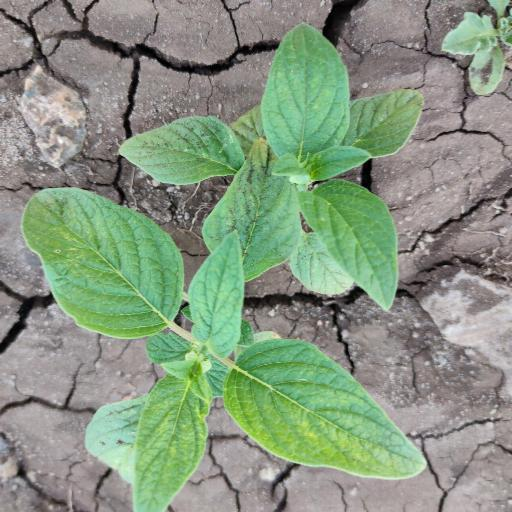crop: (21, 189, 431, 512), (104, 27, 428, 317)
